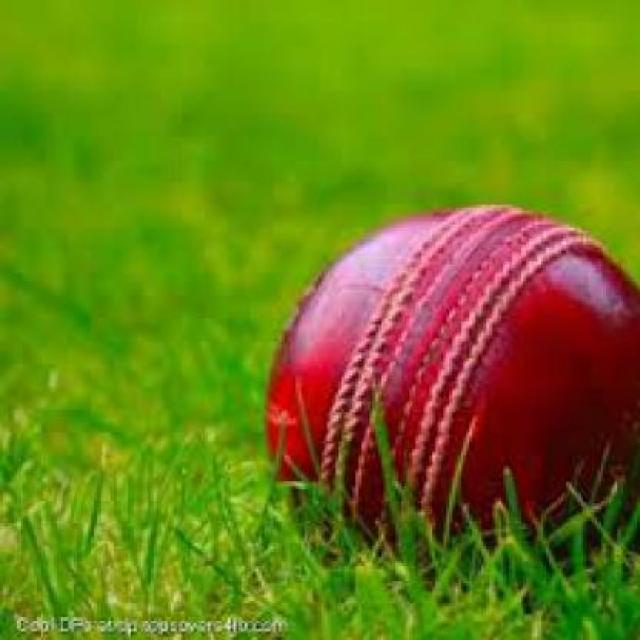ball: (251, 153, 640, 562)
